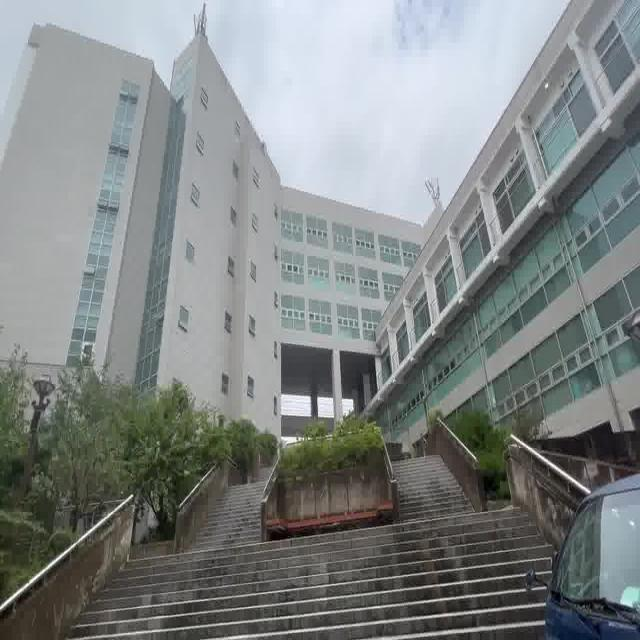building: (12, 25, 410, 380)
